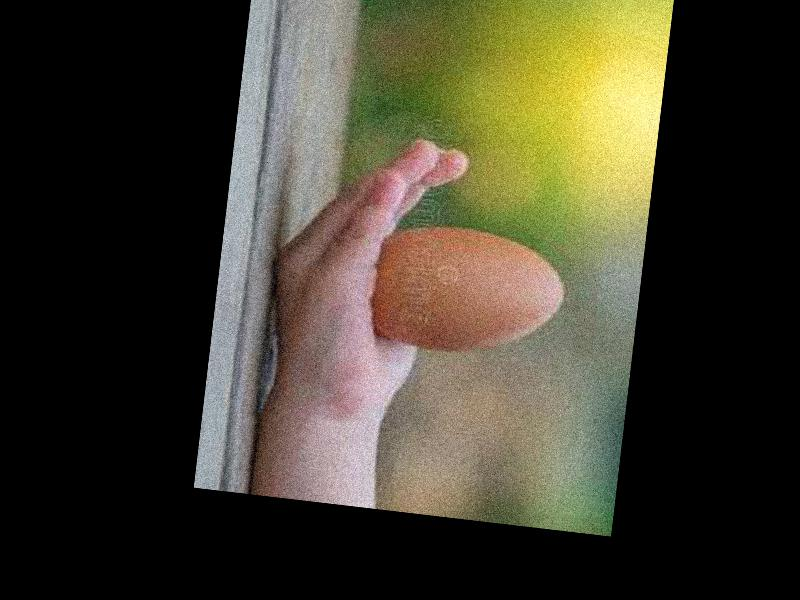Eggs: (366, 220, 569, 366)
